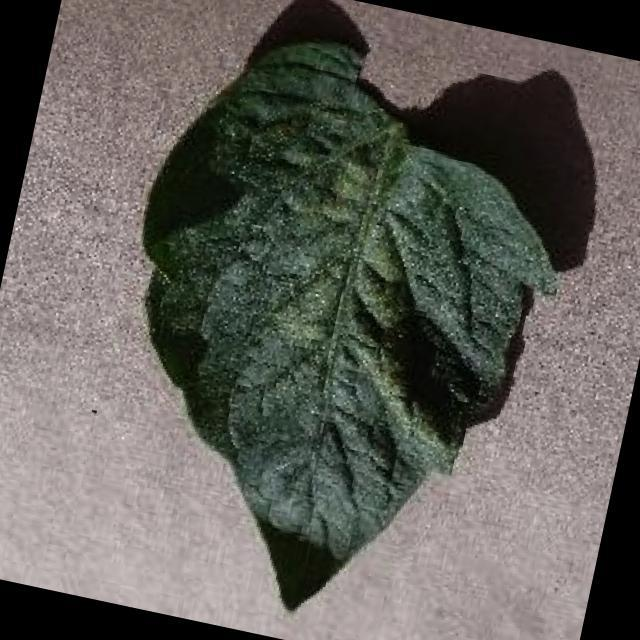Tomato spider mites leaf: (70, 9, 596, 640)
